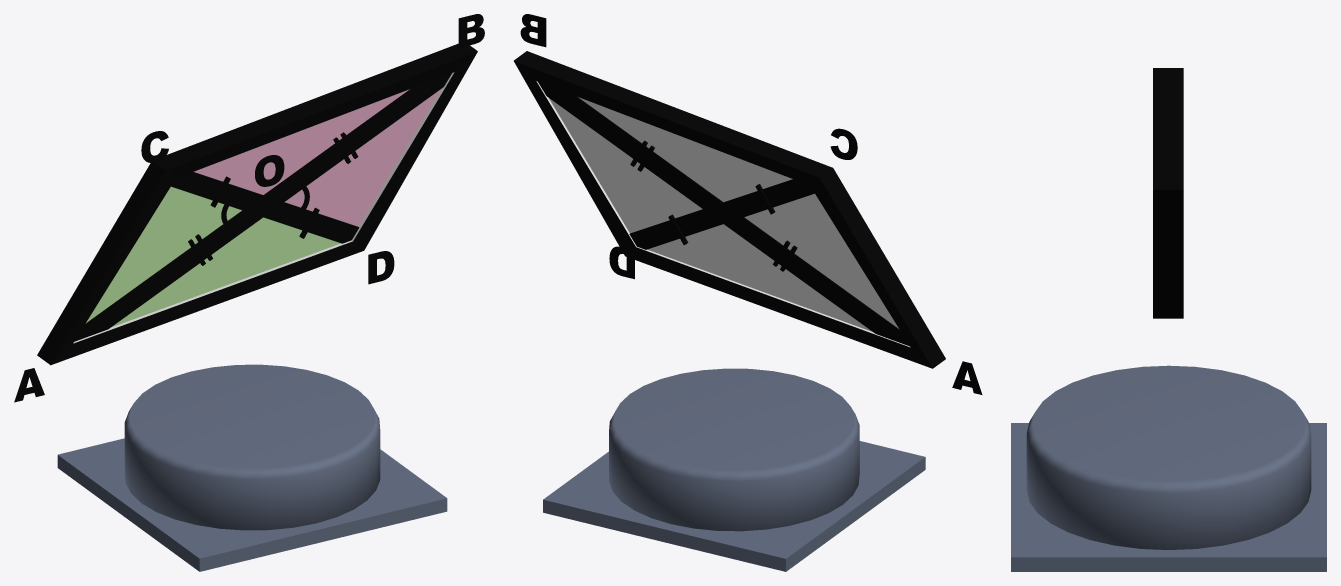
3 renders of one model, left to right at view 1: azimuth 30°, elevation 25°; view 2: azimuth 150°, elevation 25°; view 3: azimuth 270°, elevation 25°, orthographic. The views are drawn at different scales.
Visible parts, largest first — view 1: Cube, Cube.001, Cube.003, Cube.002, Text.002, Text.003, Text; view 2: Cube, Cube.001, Cube.003, Cube.002, Text.002; view 3: Cube, Cube.001.
Boxes of the visible parts, left/top/right/bottom form: Cube: left=57, top=364, right=447, bottom=571; Cube.001: left=37, top=43, right=477, bottom=365; Cube.003: left=74, top=73, right=451, bottom=341; Cube.002: left=171, top=172, right=359, bottom=243; Text.002: left=458, top=14, right=484, bottom=47; Text.003: left=368, top=251, right=394, bottom=284; Text: left=255, top=155, right=284, bottom=186; Cube: left=543, top=368, right=925, bottom=571; Cube.001: left=514, top=51, right=945, bottom=368; Cube.003: left=538, top=82, right=909, bottom=346; Cube.002: left=629, top=179, right=814, bottom=249; Text.002: left=520, top=14, right=546, bottom=47; Cube: left=1011, top=365, right=1326, bottom=571; Cube.001: left=1153, top=68, right=1183, bottom=318.
Size of the model in its own units: 17.37 by 15.1 by 9.09.
